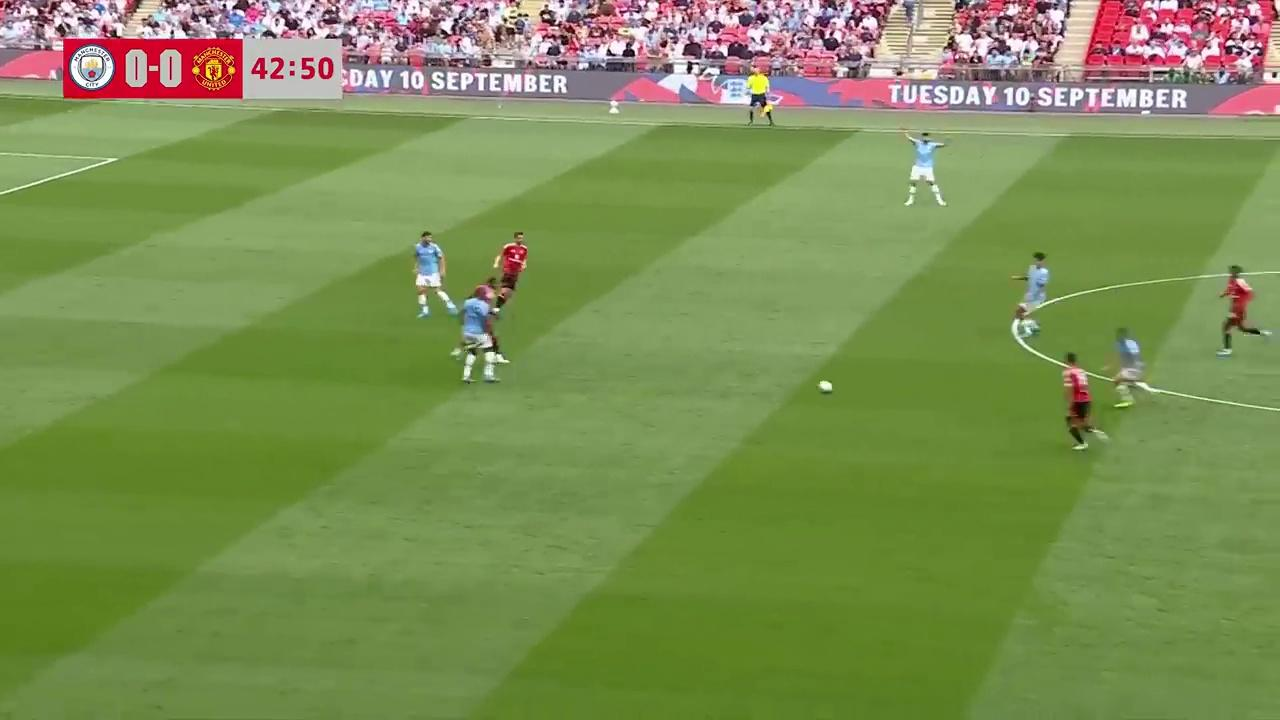ball: (816, 377, 835, 394)
player: (1216, 264, 1269, 355), (1062, 353, 1111, 449), (450, 290, 498, 384), (468, 274, 516, 368), (412, 230, 453, 319), (903, 130, 948, 207), (1011, 252, 1050, 338), (1112, 327, 1153, 405), (492, 231, 528, 311)
referee: (747, 67, 775, 127)
